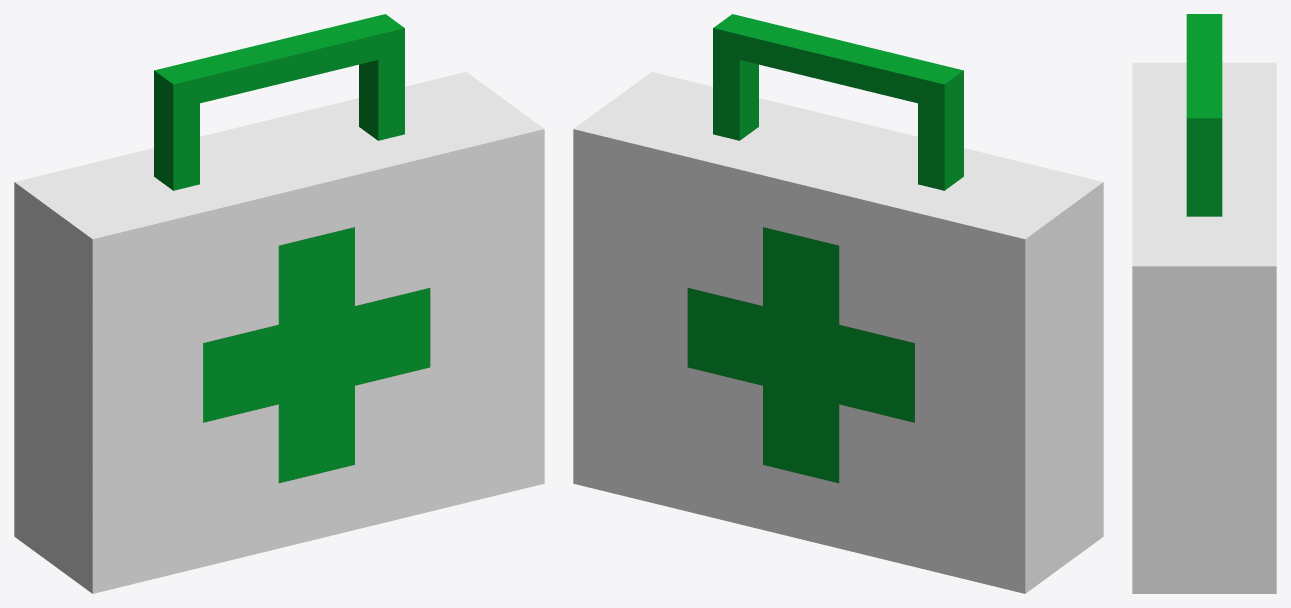
The model's file is aid.glb.
The picture shows the model from 3 angles, left to right: view 1: azimuth 30°, elevation 25°; view 2: azimuth 150°, elevation 25°; view 3: azimuth 270°, elevation 25°; orthographic projection. The views are drawn at different scales.
Parts seen in each view (by area): view 1: firstaid; view 2: firstaid; view 3: firstaid.
Boxes of the visible parts, left/top/right/bottom form: firstaid: left=14, top=14, right=544, bottom=593; firstaid: left=573, top=14, right=1103, bottom=593; firstaid: left=1132, top=14, right=1276, bottom=593.
Size of the model in its own units: 2 by 1.95 by 0.6.
Materials: 1 (1 with a texture image).
